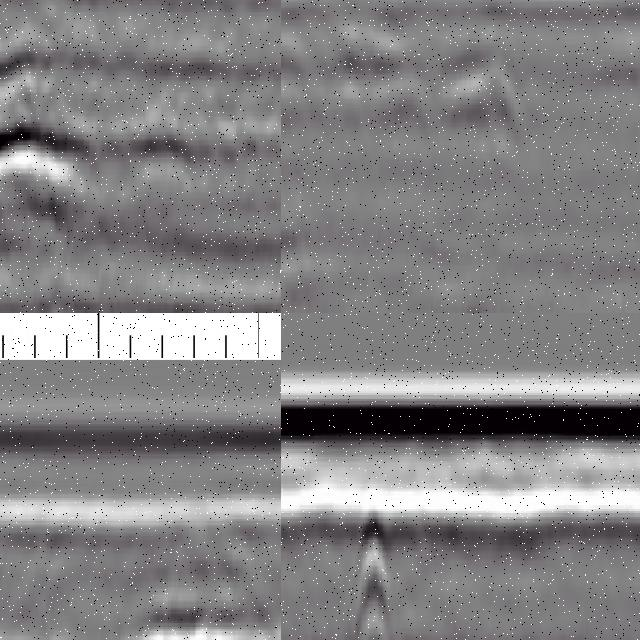crack: (352, 489, 387, 640)
loose: (282, 34, 530, 141), (1, 58, 145, 208), (122, 584, 259, 640)
